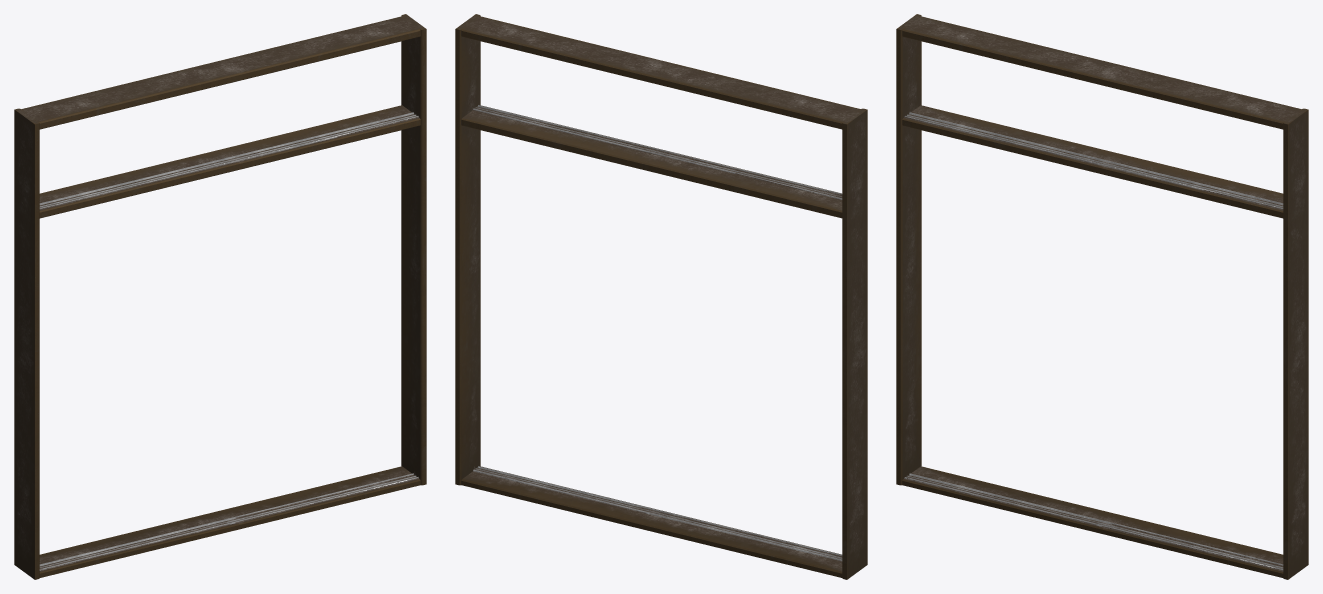
Rendered from DoorFrame_D.fbx.
3 views of the same model, side by side, from view 1: azimuth 30°, elevation 25°; view 2: azimuth 150°, elevation 25°; view 3: azimuth 330°, elevation 25° (orthographic).
Parts seen in each view (by area): view 1: DoorFrame_D; view 2: DoorFrame_D; view 3: DoorFrame_D.
Boxes of the visible parts, bbox=[...] form: DoorFrame_D: bbox=[14, 14, 426, 579]; DoorFrame_D: bbox=[455, 14, 867, 579]; DoorFrame_D: bbox=[896, 14, 1308, 579].
Bounding box in the file's own units: 225 × 250 × 20.37.
1 material, 1 textured.
